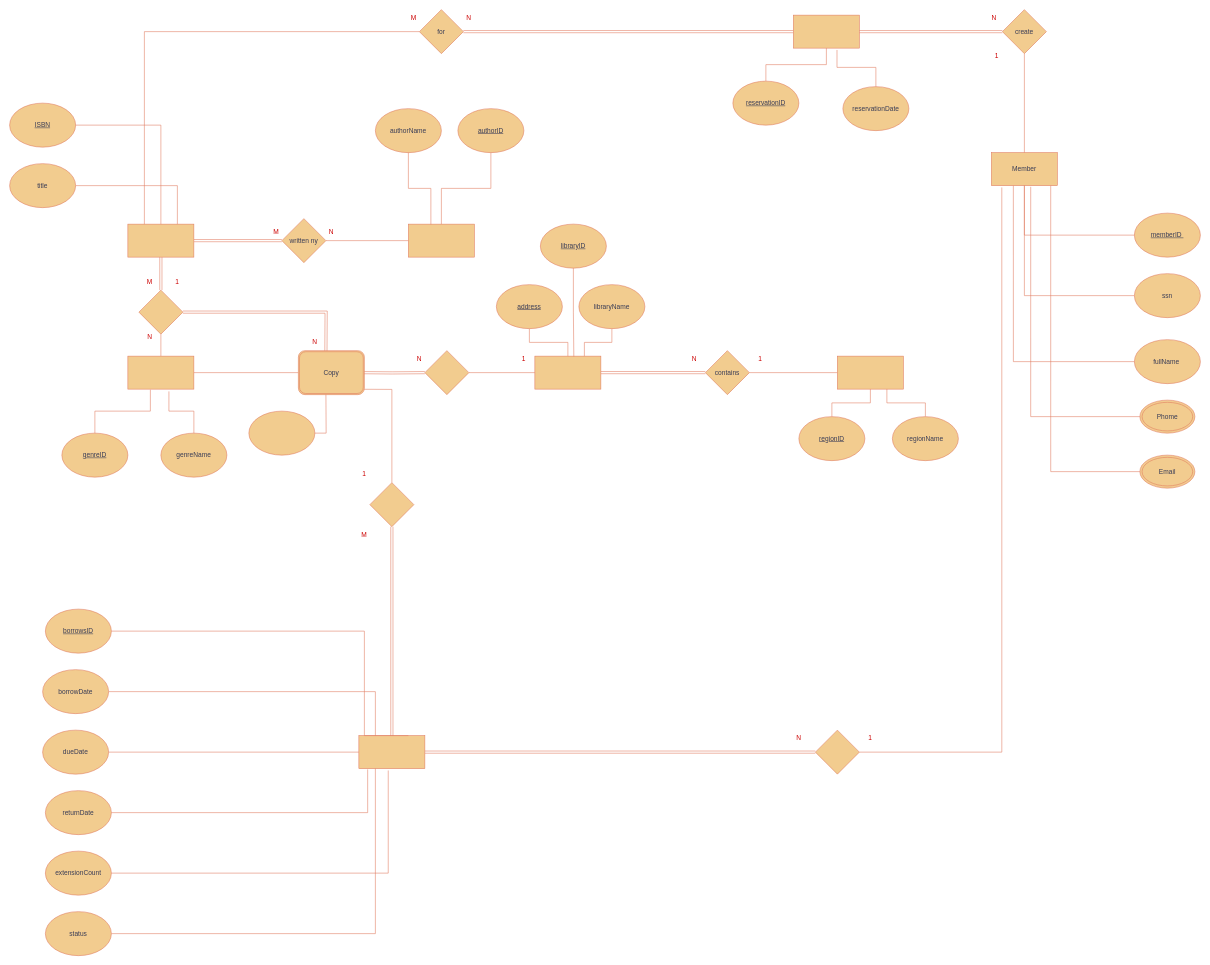
Image size: 1210x965. Some labels were removed from this diagram. The shapes that lost their labels are listed below. From the top down, each one's centre as x and y in pixels, then its label:
At point 826,31: "Reservation".
At point 160,240: "Book".
At point 441,240: "Author".
At point 160,312: "has".
At point 160,372: "Genre".
At point 446,372: "stores".
At point 567,372: "Library".
At point 870,372: "Region".
At point 281,433: "copyID".
At point 391,504: "involvs".
At point 391,752: "Borrows".
At point 837,752: "makes".
